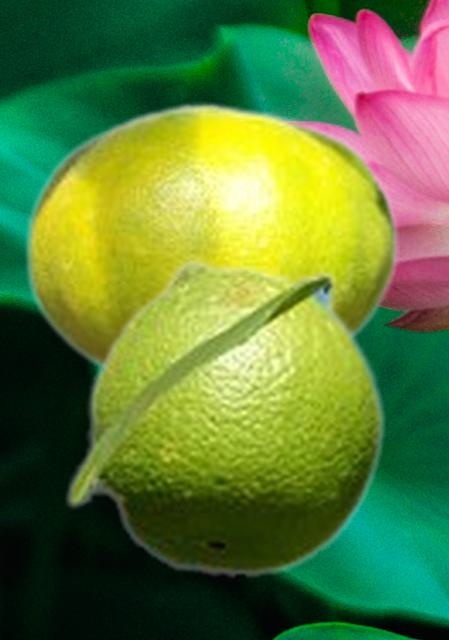dalandan: (62, 257, 387, 579), (23, 101, 398, 372)
